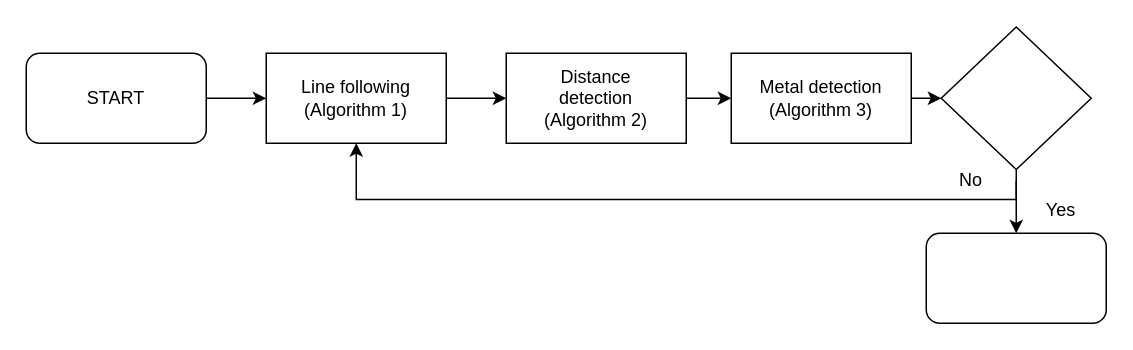
This 1133x350 diagram has some shape labels left out. The shapes that lost their labels are listed below. From the top down, each one's centre as x and y in pixels, then its label:
(1015,98): Finished?
(1015,277): END
